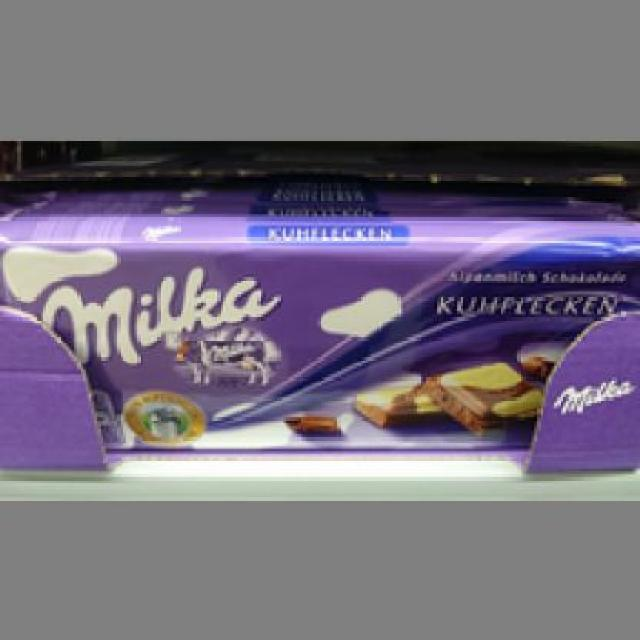Chocolate: (0, 214, 637, 457)
